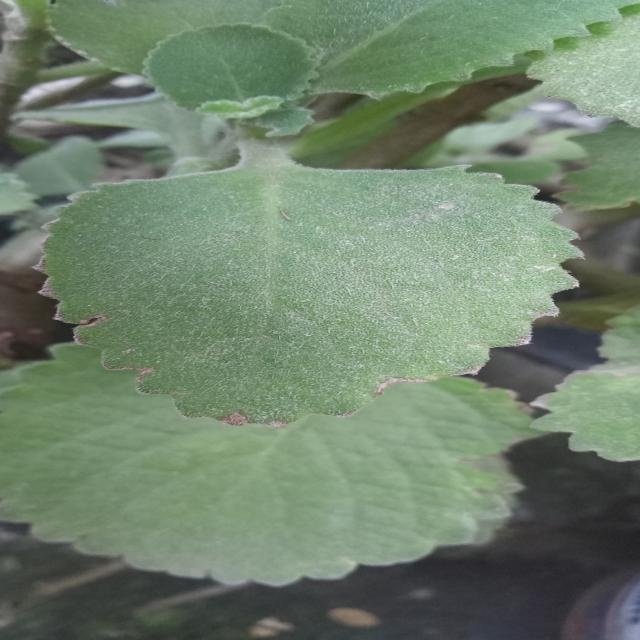Oregano: (25, 141, 609, 437)
